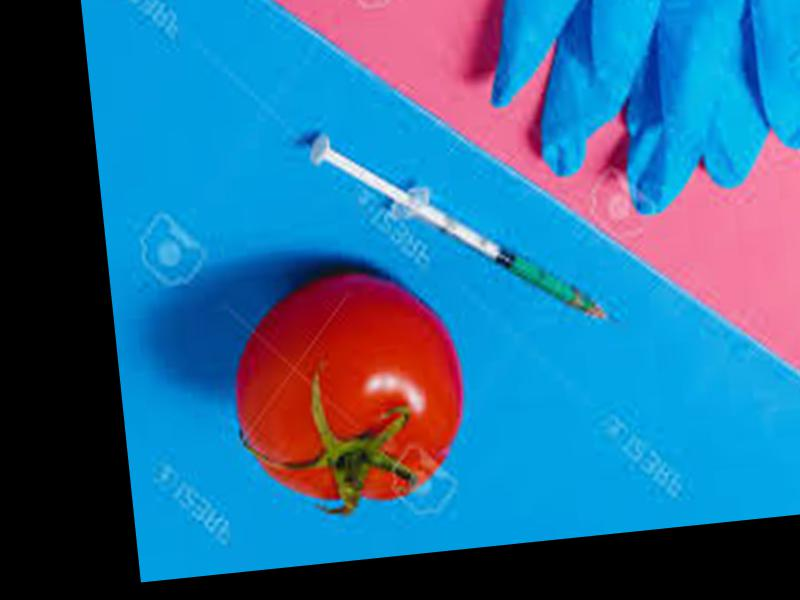Tomato: (227, 259, 473, 511)
